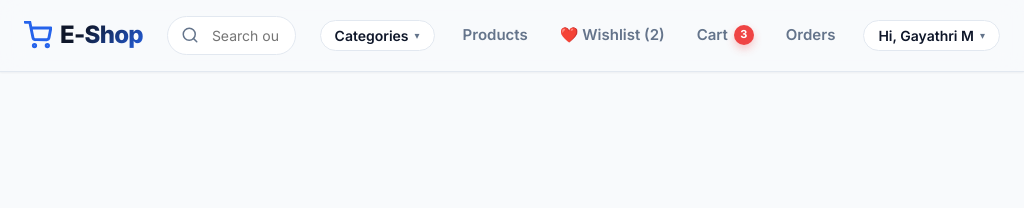
Test: Navbar Component tests › renders user actions menu when logged in
The width and height of the screenshot is (1024, 208).
Expected: the text "Hi, Gayathri M" is shown, left=878, top=26, right=974, bottom=44
Open profile menu
Click the button with aria-label "Open profile menu" at (932, 35), box left=863, top=20, right=1000, bottom=50
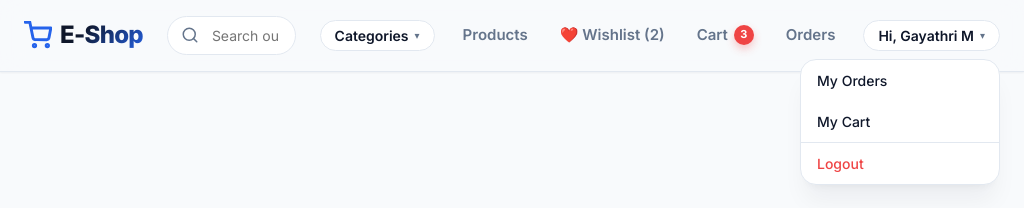
Expected: the button "Logout" is shown, left=801, top=142, right=999, bottom=184
